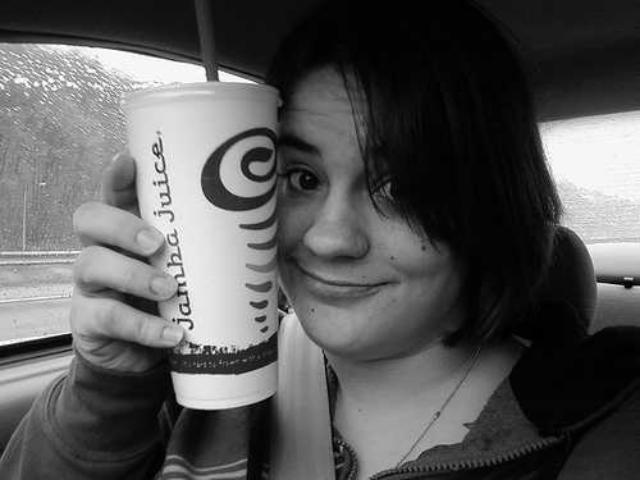SafeDriving: (362, 158, 422, 214), (280, 152, 330, 199)
Seatbelt: (267, 308, 343, 480)
